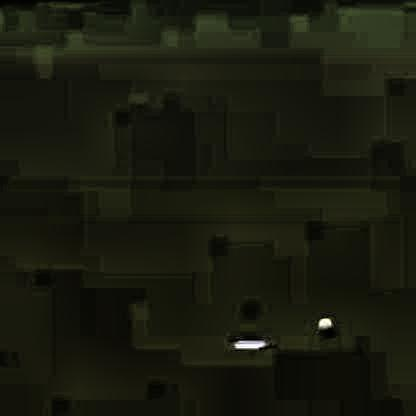golfball: (314, 314, 331, 329)
